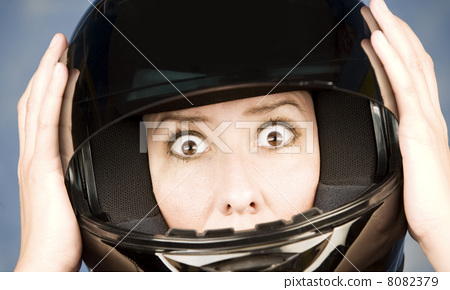helmet: (55, 2, 420, 270)
